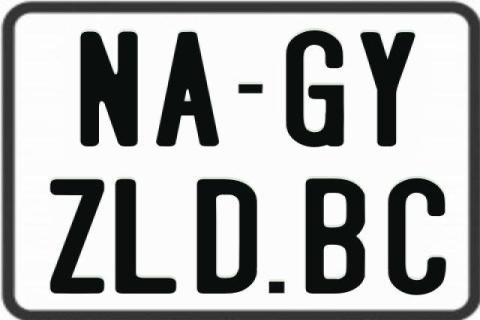A: (153, 31, 220, 148)
B: (305, 176, 370, 296)
C: (388, 179, 449, 297)
D: (195, 178, 255, 292)
G: (284, 29, 342, 148)
L: (113, 177, 177, 295)
N: (77, 29, 136, 145)
Y: (360, 30, 418, 148)
Z: (49, 178, 105, 294)
